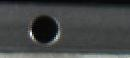holes: (28, 13, 60, 47)
